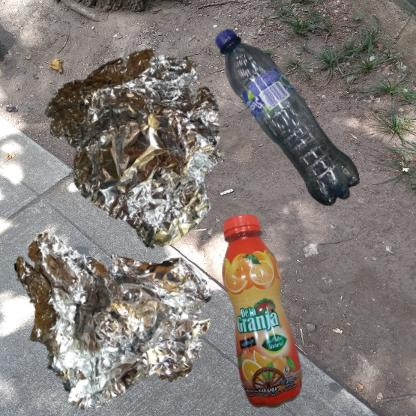aluminio: (10, 10, 290, 287), (10, 213, 226, 416)
botella: (213, 10, 375, 239), (213, 213, 314, 416)
